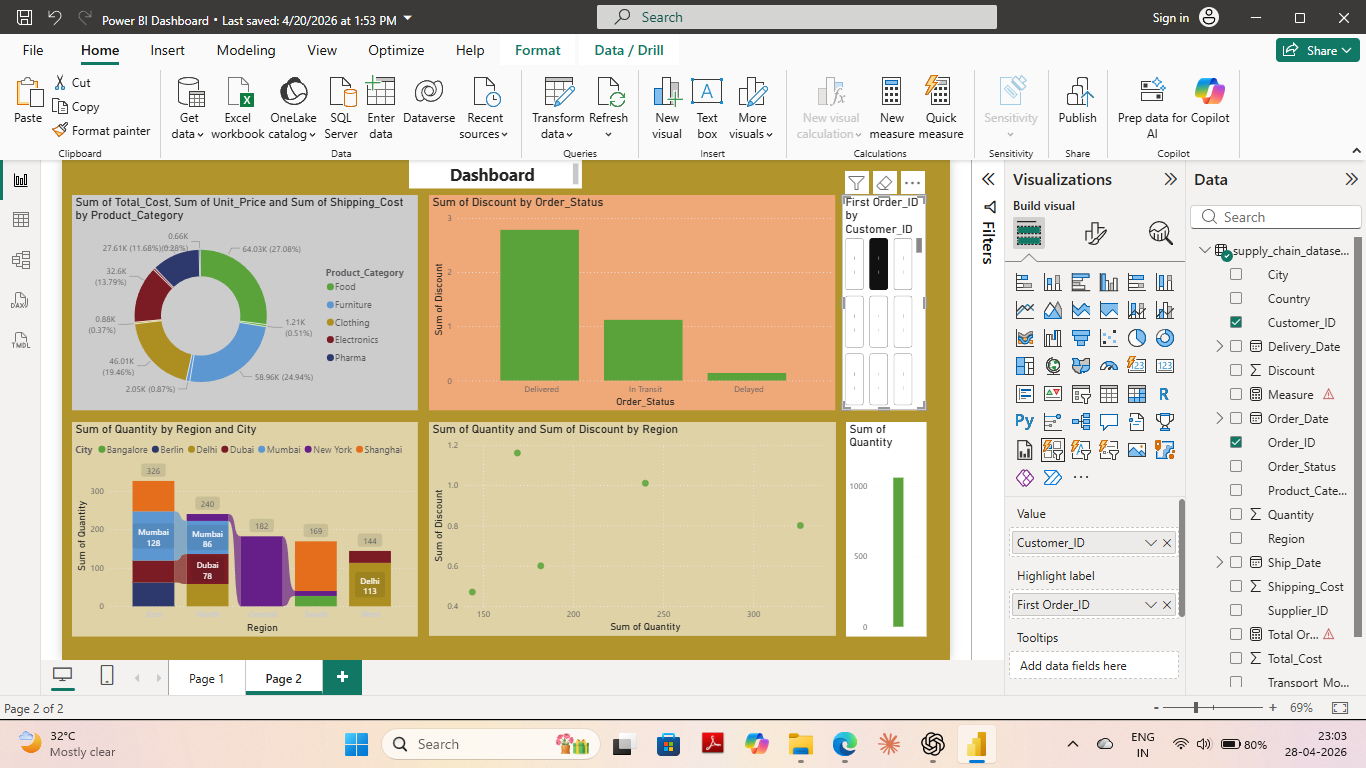

Layout of this report page (visuals, bound fields, positions):
{"tool":"powerbi","page":{"name":"Page 2","canvas":[1280,720],"ordinal":1},"visuals":[{"type":"donutChart","fields":{"Category":["supply_chain_dataset BI  (1).Product_Category"],"Y":["Sum(supply_chain_dataset BI  (1).Total_Cost)","Sum(supply_chain_dataset BI  (1).Unit_Price)","Sum(supply_chain_dataset BI  (1).Shipping_Cost)"]},"box":[14.6,49.8,497.6,310.2],"z":1000},{"type":"clusteredColumnChart","fields":{"Y":["Sum(supply_chain_dataset BI  (1).Discount)"],"Category":["supply_chain_dataset BI  (1).Order_Status"]},"box":[528.3,49.8,585.4,310.2],"z":2000},{"type":"columnChart","fields":{"Category":["supply_chain_dataset BI  (1).Region"],"Series":["supply_chain_dataset BI  (1).City"],"Y":["Sum(supply_chain_dataset BI  (1).Quantity)"]},"box":[14.6,377.6,497.6,308.8],"z":3000},{"type":"clusteredColumnChart","fields":{"Y":["Sum(supply_chain_dataset BI  (1).Quantity)"]},"box":[1128.3,377.6,115.6,308.8],"z":5000},{"type":"advancedSlicerVisual","fields":{"Values":["supply_chain_dataset BI  (1).Customer_ID"],"Label":["Min(supply_chain_dataset BI  (1).Order_ID)"]},"box":[1123.9,49.8,120,310.2],"z":6000},{"type":"textbox","box":[499,0,248.8,41],"z":7000},{"type":"scatterChart","fields":{"X":["Sum(supply_chain_dataset BI  (1).Quantity)"],"Category":["supply_chain_dataset BI  (1).Region"],"Y":["Sum(supply_chain_dataset BI  (1).Discount)"]},"box":[528.5,377.3,586.1,308.2],"z":7001}]}

Visuals, with their boxes on the page's 1280x720 design canvas (x1, y1, x2, y2). These are canvas units, not pixel positions in the 1366x768 screenshot, which may show the page scaled, cropped or inside an application window:
donutChart - supply_chain_dataset BI  (1).Product_Category x Sum(supply_chain_dataset BI  (1).Total_Cost): BBox(15, 50, 512, 360)
clusteredColumnChart - Sum(supply_chain_dataset BI  (1).Discount) x supply_chain_dataset BI  (1).Order_Status: BBox(528, 50, 1114, 360)
columnChart - supply_chain_dataset BI  (1).Region x supply_chain_dataset BI  (1).City: BBox(15, 378, 512, 686)
clusteredColumnChart - Sum(supply_chain_dataset BI  (1).Quantity): BBox(1128, 378, 1244, 686)
advancedSlicerVisual - supply_chain_dataset BI  (1).Customer_ID x Min(supply_chain_dataset BI  (1).Order_ID): BBox(1124, 50, 1244, 360)
textbox: BBox(499, 0, 748, 41)
scatterChart - Sum(supply_chain_dataset BI  (1).Quantity) x supply_chain_dataset BI  (1).Region: BBox(528, 377, 1115, 686)
